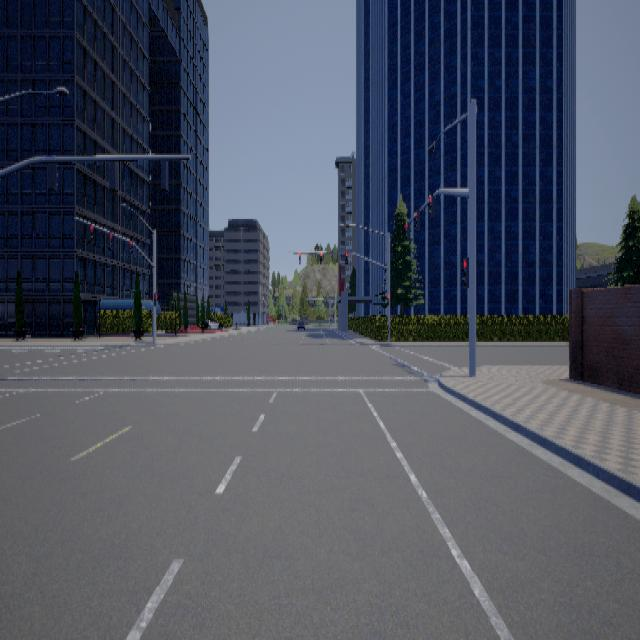red_light: (460, 256, 468, 286), (427, 194, 434, 217), (413, 209, 419, 231), (87, 222, 93, 241), (404, 221, 409, 239), (107, 231, 112, 248), (128, 240, 132, 255), (154, 292, 158, 305), (344, 251, 348, 263), (319, 252, 322, 264), (386, 294, 388, 306), (298, 251, 300, 263)
